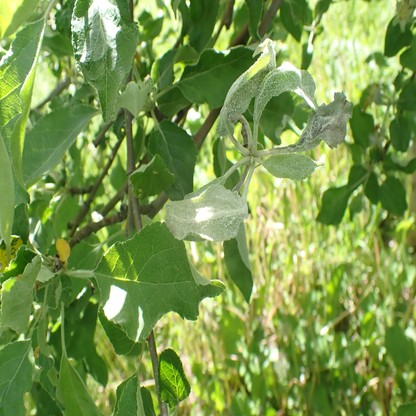powder: (215, 36, 316, 156), (70, 0, 140, 126), (257, 91, 356, 180), (163, 184, 249, 243)
